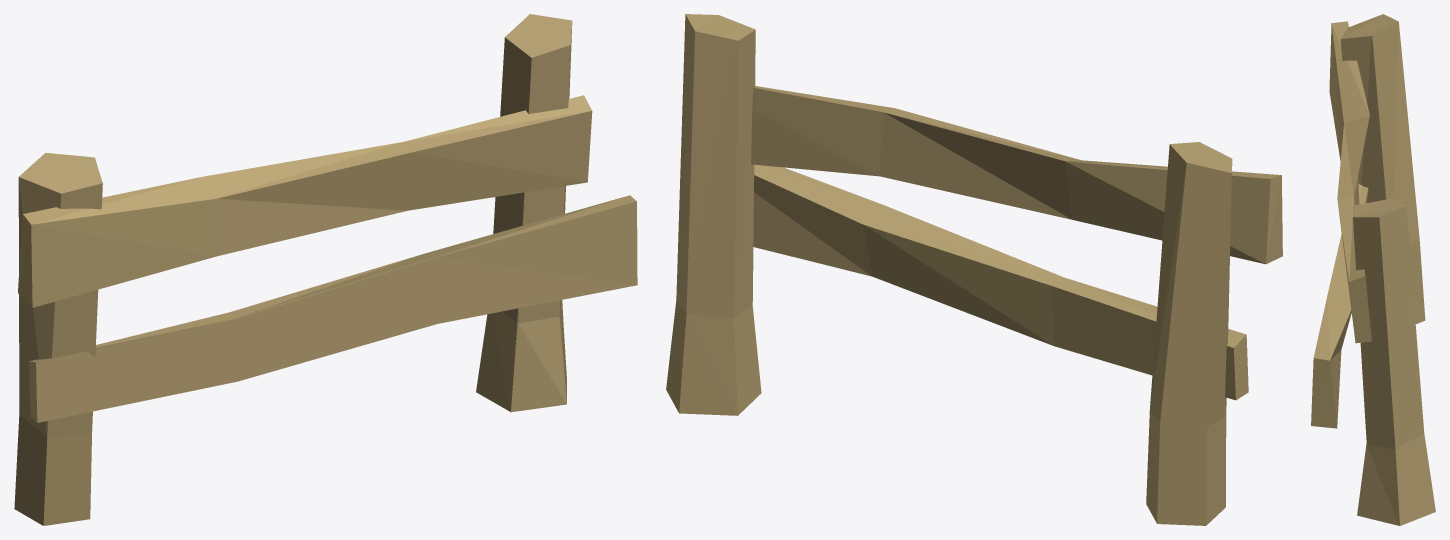
File: Fence2.fbx
3 views of the same model, side by side, from view 1: azimuth 30°, elevation 25°; view 2: azimuth 150°, elevation 25°; view 3: azimuth 270°, elevation 25° (orthographic). The views are drawn at different scales.
Visible parts, largest first — view 1: shard1, shard4, shard5, shard2, shard3, shard11, shard7, shard10, shard8, shard6; view 2: shard2, shard1, shard4, shard3, shard5, shard8, shard6, shard7; view 3: shard2, shard6, shard7, shard4, shard11, shard1, shard5, shard10, shard3, shard8, shard9.
Part boxes in pixels (bbox=[...]): shard1: bbox=[29, 195, 637, 422]; shard4: bbox=[202, 95, 592, 256]; shard5: bbox=[18, 177, 217, 307]; shard2: bbox=[476, 14, 572, 411]; shard3: bbox=[18, 152, 102, 525]; shard11: bbox=[44, 158, 95, 525]; shard7: bbox=[511, 59, 566, 412]; shard10: bbox=[518, 188, 566, 403]; shard8: bbox=[36, 213, 573, 359]; shard6: bbox=[14, 414, 45, 525]; shard2: bbox=[676, 14, 761, 415]; shard1: bbox=[753, 164, 1248, 400]; shard4: bbox=[751, 86, 1080, 219]; shard3: bbox=[1152, 142, 1232, 525]; shard5: bbox=[1065, 160, 1282, 264]; shard8: bbox=[754, 165, 1229, 346]; shard6: bbox=[1146, 164, 1225, 525]; shard7: bbox=[666, 155, 686, 412]; shard2: bbox=[1353, 198, 1424, 525]; shard6: bbox=[1380, 22, 1425, 323]; shard7: bbox=[1357, 317, 1435, 525]; shard4: bbox=[1337, 115, 1371, 343]; shard11: bbox=[1343, 36, 1385, 202]; shard1: bbox=[1311, 184, 1368, 428]; shard5: bbox=[1329, 21, 1369, 160]; shard10: bbox=[1357, 444, 1399, 525]; shard3: bbox=[1340, 14, 1398, 199]; shard8: bbox=[1328, 186, 1368, 360]; shard9: bbox=[1314, 356, 1337, 427].
Size of the model in its own units: 260 by 154 by 56.81.
